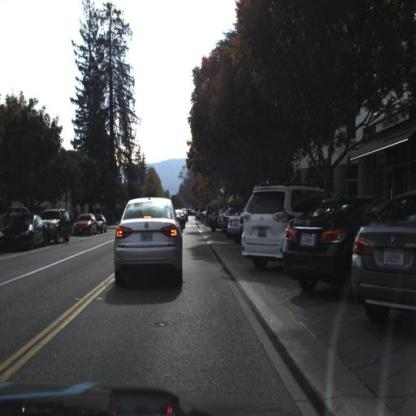car: (353, 188, 416, 336), (279, 196, 356, 304), (115, 199, 185, 295), (284, 197, 353, 285), (241, 181, 285, 277), (243, 185, 286, 265), (39, 208, 76, 248), (4, 216, 46, 247), (47, 208, 73, 241), (73, 212, 98, 239), (75, 215, 97, 236), (228, 211, 244, 239), (95, 213, 108, 231)
pedestrian: (59, 206, 70, 242)
